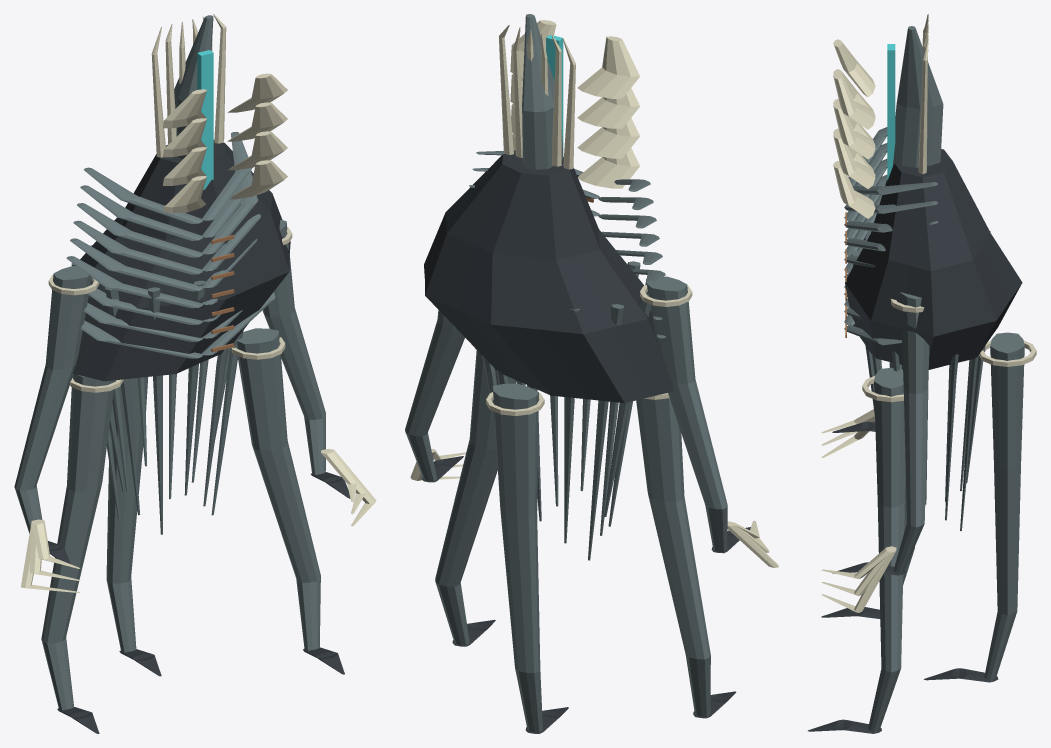
The model's file is unseam.fbx.
3 views of the same model, side by side, from view 1: azimuth 30°, elevation 25°; view 2: azimuth 150°, elevation 25°; view 3: azimuth 270°, elevation 25° (orthographic). The views are drawn at different scales.
Parts seen in each view (by area): view 1: oblique_mantle, leg_1_skin, leg_0_skin, arm_0_skin, leg_2_skin, arm_1_skin, aperture, head_keel, mantle_strand_8, mantle_rib_4_-1, mantle_rib_5_-1, mantle_rib_7_-1 (+31 smaller); view 2: oblique_mantle, leg_2_skin, leg_0_skin, arm_0_skin, leg_1_skin, arm_1_skin, head_keel, face_shutter_-1_3, face_shutter_-1_1, face_shutter_-1_2, face_shutter_-1_0, mantle_strand_5 (+11 smaller); view 3: oblique_mantle, leg_2_skin, leg_1_skin, arm_1_skin, head_keel, aperture, face_shutter_1_3, face_shutter_1_1, face_shutter_1_0, face_shutter_1_2, face_shutter_-1_3, split_crown_5 (+15 smaller).
Boxes of the visible parts, bbox=[...] form: oblique_mantle: bbox=[72, 140, 290, 381]; leg_1_skin: bbox=[236, 328, 320, 650]; leg_0_skin: bbox=[41, 374, 114, 710]; arm_0_skin: bbox=[14, 266, 91, 533]; leg_2_skin: bbox=[106, 377, 148, 652]; arm_1_skin: bbox=[262, 220, 325, 474]; aperture: bbox=[197, 50, 213, 189]; head_keel: bbox=[174, 15, 213, 159]; mantle_strand_8: bbox=[148, 287, 162, 534]; mantle_rib_4_-1: bbox=[70, 238, 202, 291]; mantle_rib_5_-1: bbox=[73, 220, 202, 274]; mantle_rib_7_-1: bbox=[80, 185, 202, 240]; oblique_mantle: bbox=[424, 151, 674, 403]; leg_2_skin: bbox=[492, 383, 542, 732]; leg_0_skin: bbox=[636, 398, 710, 716]; arm_0_skin: bbox=[646, 276, 727, 551]; leg_1_skin: bbox=[435, 350, 516, 645]; arm_1_skin: bbox=[405, 310, 464, 481]; head_keel: bbox=[522, 14, 563, 169]; face_shutter_-1_3: bbox=[577, 36, 639, 98]; face_shutter_-1_1: bbox=[577, 118, 639, 158]; face_shutter_-1_2: bbox=[577, 88, 639, 128]; face_shutter_-1_0: bbox=[578, 148, 639, 188]; mantle_strand_5: bbox=[588, 304, 623, 560]; oblique_mantle: bbox=[845, 149, 1022, 369]; leg_2_skin: bbox=[984, 332, 1024, 681]; leg_1_skin: bbox=[868, 367, 905, 732]; arm_1_skin: bbox=[893, 292, 929, 574]; head_keel: bbox=[892, 26, 943, 167]; aperture: bbox=[887, 44, 895, 180]; face_shutter_1_3: bbox=[833, 71, 875, 129]; face_shutter_1_1: bbox=[833, 131, 875, 188]; face_shutter_1_0: bbox=[833, 161, 875, 218]; face_shutter_1_2: bbox=[833, 101, 875, 159]; face_shutter_-1_3: bbox=[833, 39, 875, 97]; split_crown_5: bbox=[918, 40, 928, 174].
Size of the model in its own units: 310 by 543 by 168.
